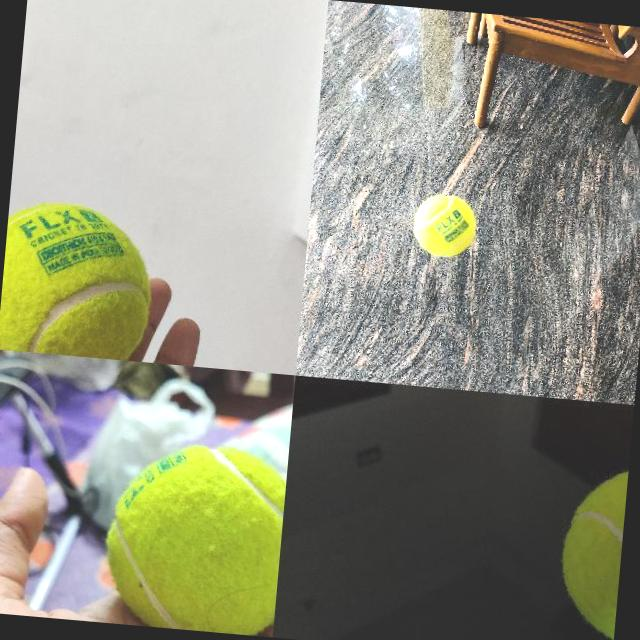tennis-ball: (95, 433, 288, 636), (0, 197, 159, 360), (554, 456, 628, 640), (412, 192, 478, 258)
